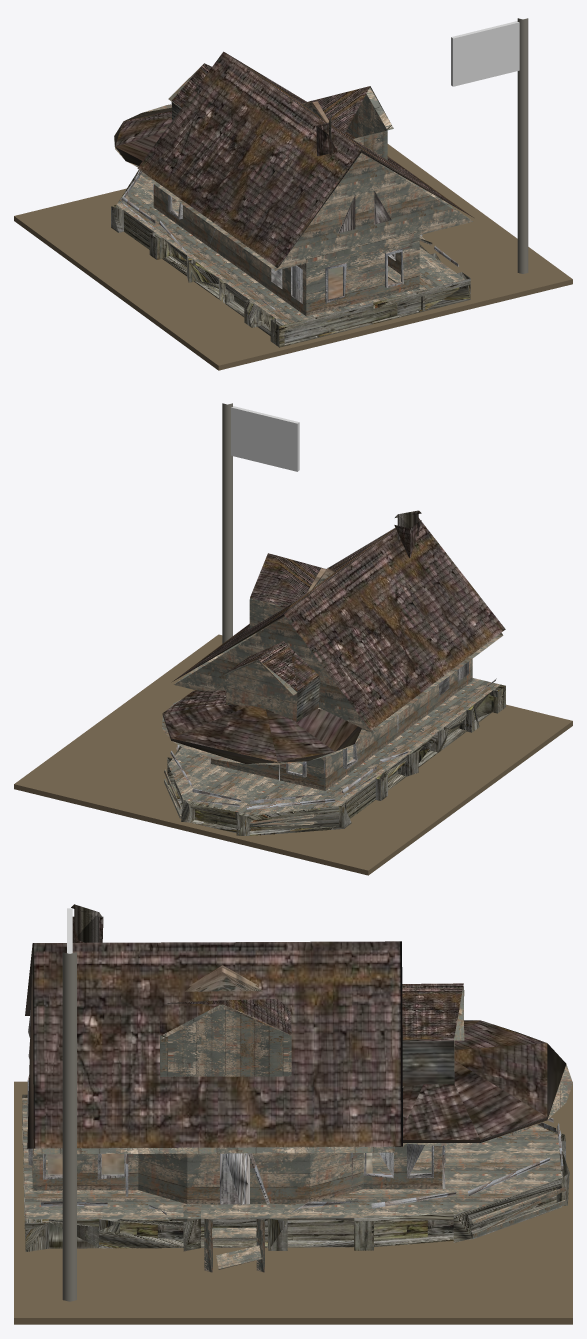
3 views of the same model, one above another, from view 1: azimuth 30°, elevation 25°; view 2: azimuth 150°, elevation 25°; view 3: azimuth 270°, elevation 25° (orthographic). The views are drawn at different scales.
Visible parts, largest first — view 1: dweller_building_housing; view 2: dweller_building_housing; view 3: dweller_building_housing.
Part boxes in pixels (x1,y1,x2,y2): dweller_building_housing: [14, 18, 572, 370]; dweller_building_housing: [14, 403, 572, 875]; dweller_building_housing: [14, 904, 572, 1324].
Bounding box in the file's own units: 3 × 2.1 × 3.
7 materials, 4 textured.
